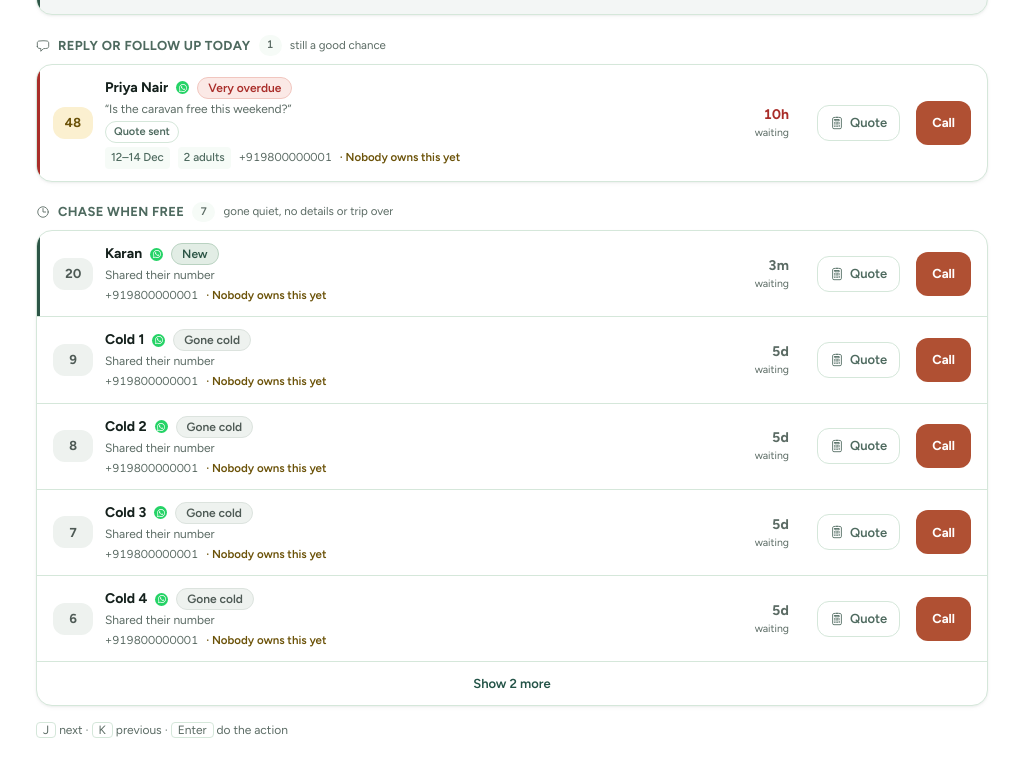
Test case: My day › shows the three lanes in the server's order, with the score and the reasons behind it
(page scrolled)
Expected: the text "Priya Nair" is shown, [105,78,168,98]
Expected: the heading "Reply or follow up today 1 still a good chance" is shown, [36,35,386,56]
Step 1. Click the button "Show 2 more" → (512, 683), box [37,661,987,705]
(page scrolled)
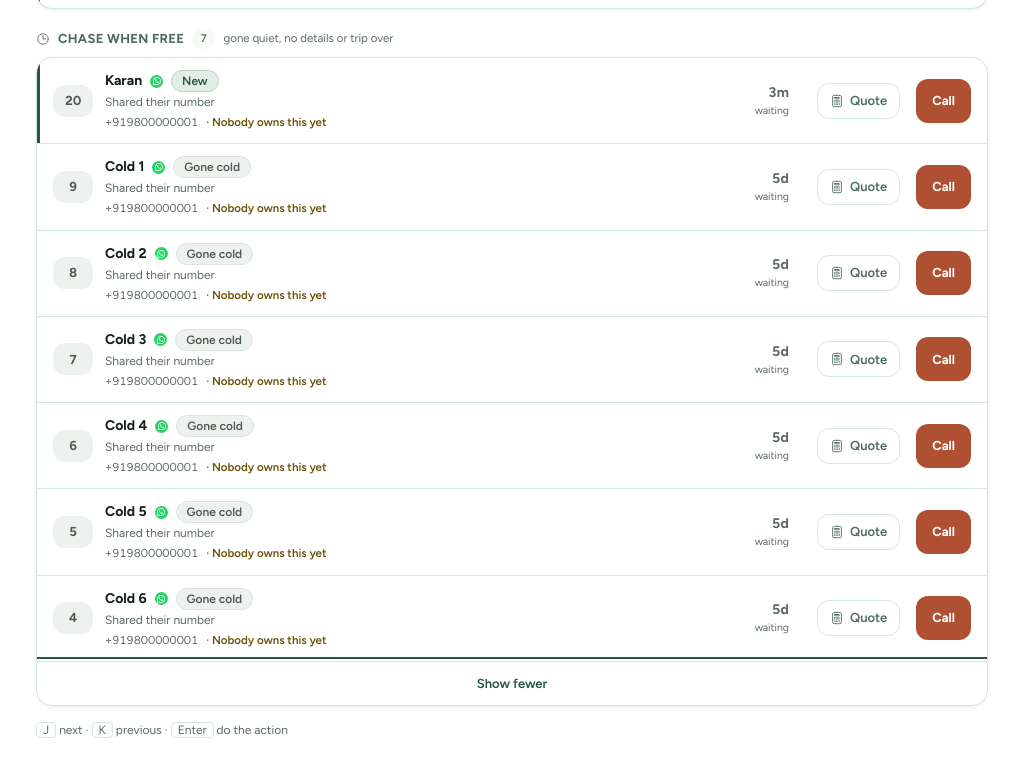
Result: the text "Cold 6" is shown at [105,588,146,608]
